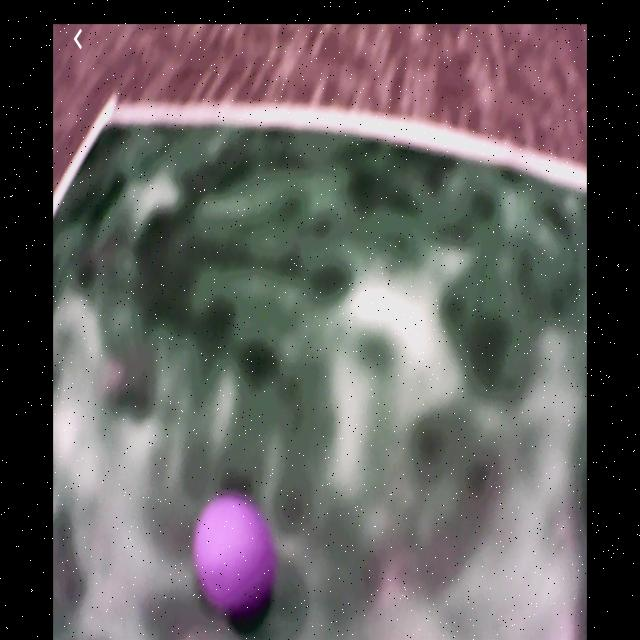ball: (193, 492, 278, 628)
